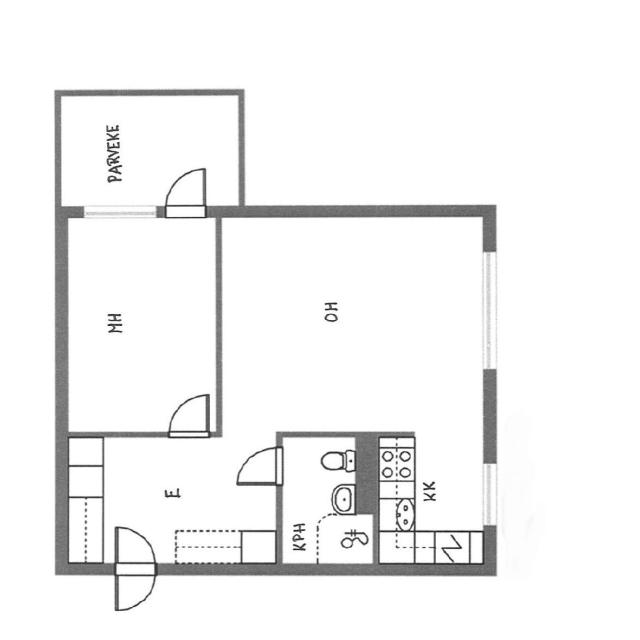door: (107, 523, 161, 615), (160, 163, 214, 219), (161, 388, 216, 440), (230, 439, 287, 488)
window: (466, 243, 512, 376), (74, 200, 165, 226), (477, 457, 504, 533)
zone: (217, 213, 486, 428), (61, 208, 222, 437), (64, 434, 287, 568), (374, 431, 496, 572), (276, 432, 374, 567)
